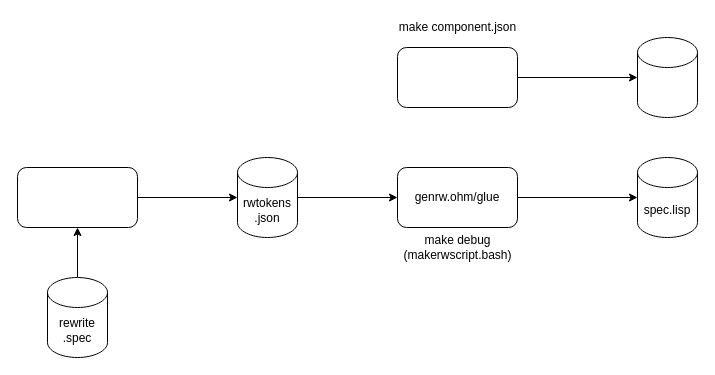
Some shapes in this 715 by 375 pixel diagram are drawn without their labels. Here are the shapes that lost their labels. From the top down, the box of each, then its label:
(636, 36, 698, 118): component .json
(16, 166, 138, 228): rwtokenize.bash (rwtokenize.ohm, rwtokenize.glue)
